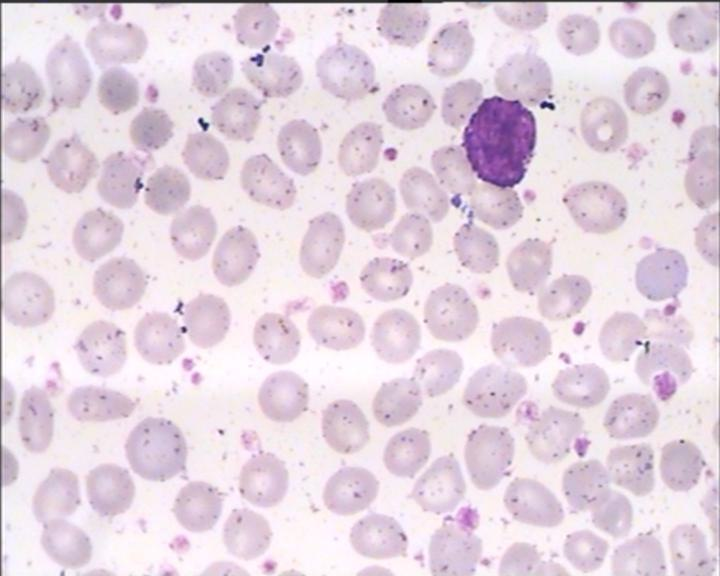baso: (458, 88, 537, 191)
